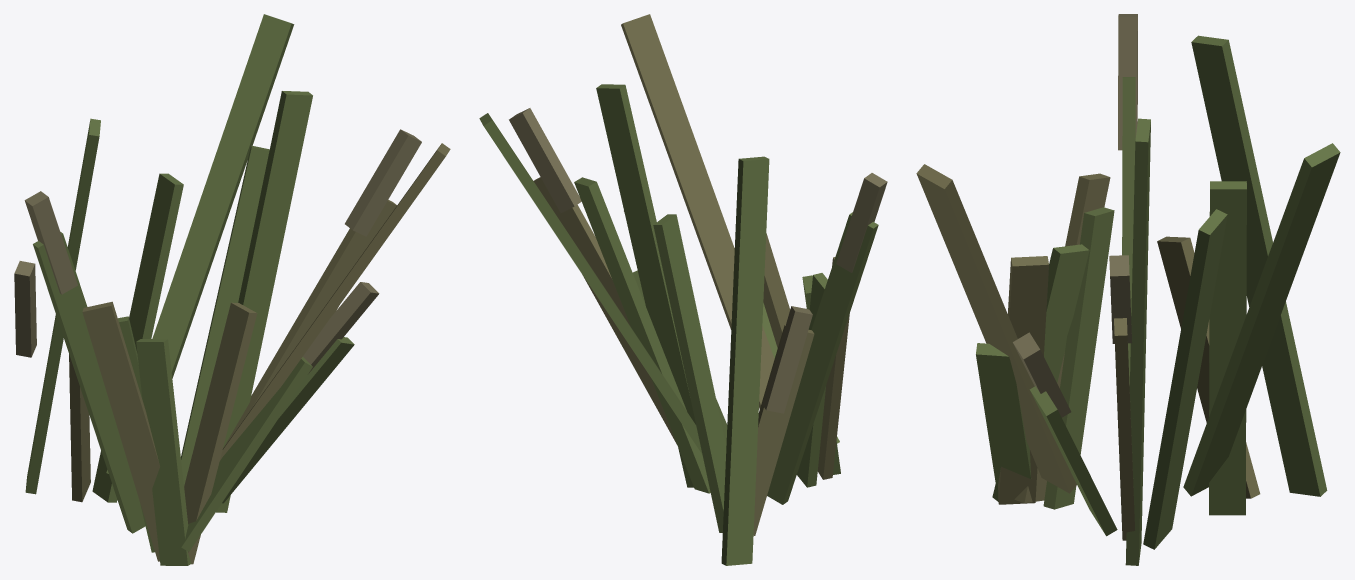
The model's file is grass_tuft_v1.glb.
3 renders of one model, left to right at view 1: azimuth 30°, elevation 25°; view 2: azimuth 150°, elevation 25°; view 3: azimuth 270°, elevation 25°, orthographic. The views are drawn at different scales.
Parts seen in each view (by area): view 1: GrassTuft; view 2: GrassTuft; view 3: GrassTuft.
Part boxes in pixels (bbox=[...]): GrassTuft: bbox=[14, 14, 450, 565]; GrassTuft: bbox=[479, 14, 887, 565]; GrassTuft: bbox=[916, 14, 1340, 565].
Size of the model in its own units: 0.4999 by 0.504 by 0.3911.
